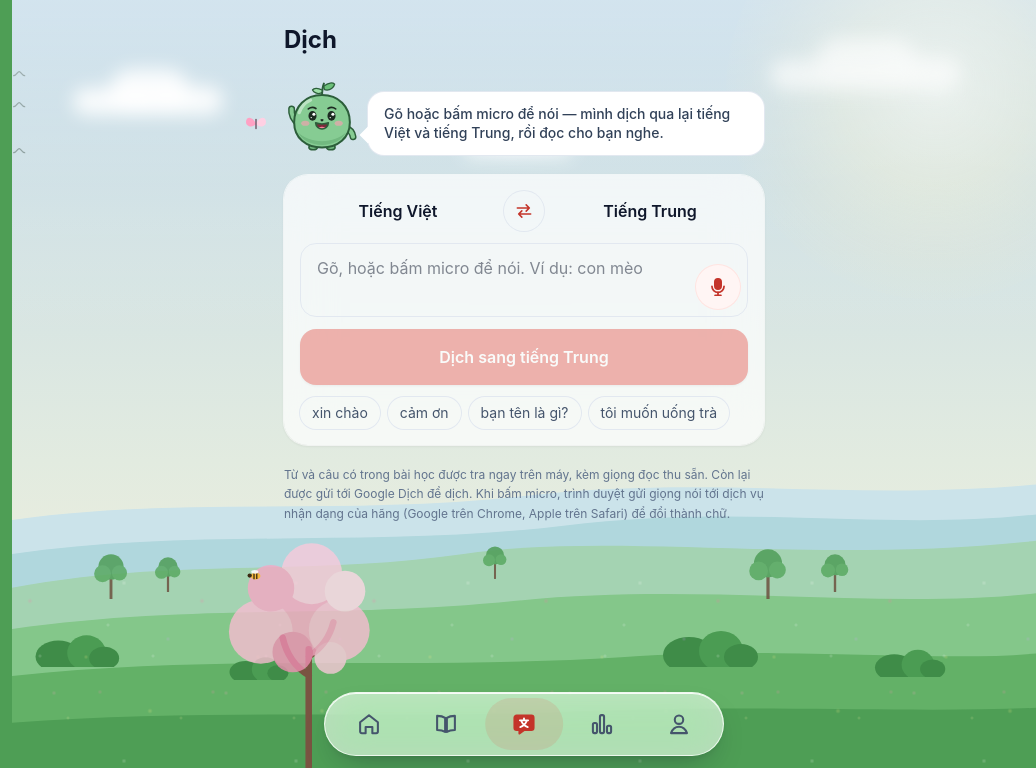
Test: Màn Dịch — Việt → Trung › từ có trong bài học thì ra ngay, không gọi mạng, và tự đọc bằng file thu sẵn
The width and height of the screenshot is (1036, 768).
Type "Xin chào" into the text box named "Tiếng Việt".
click(524, 280); type("Xin chào")  # box top-left (300, 242), bottom-right (748, 316)
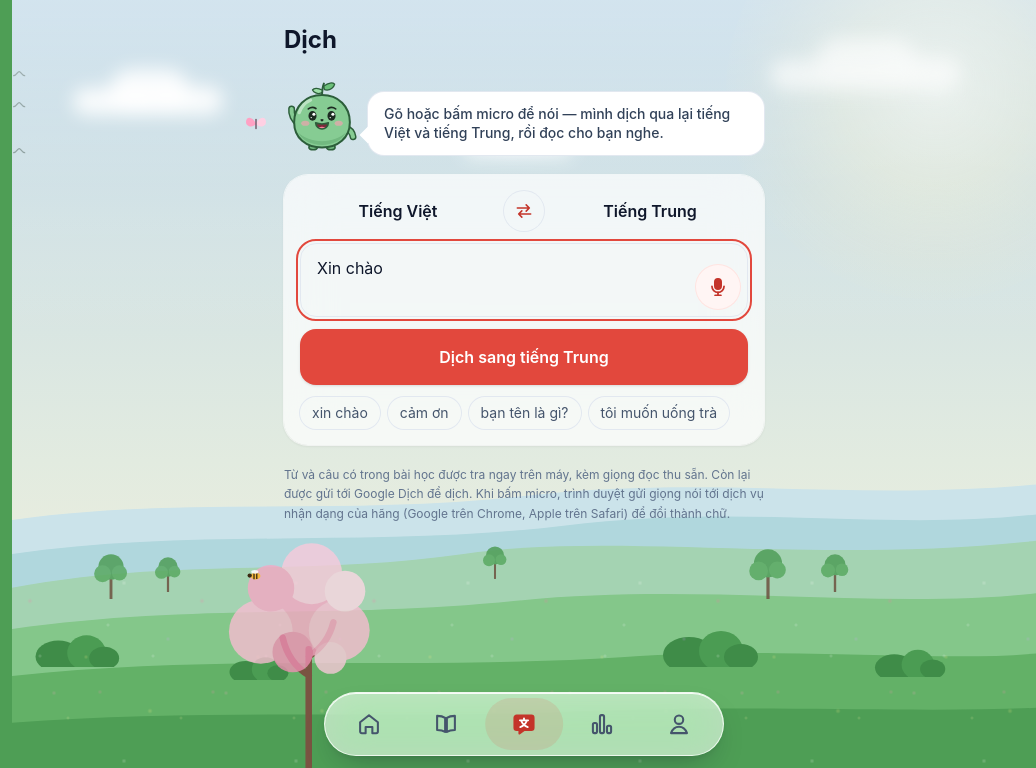
Click the button "Dịch sang tiếng Trung".
click(524, 356)  # box top-left (300, 328), bottom-right (748, 384)
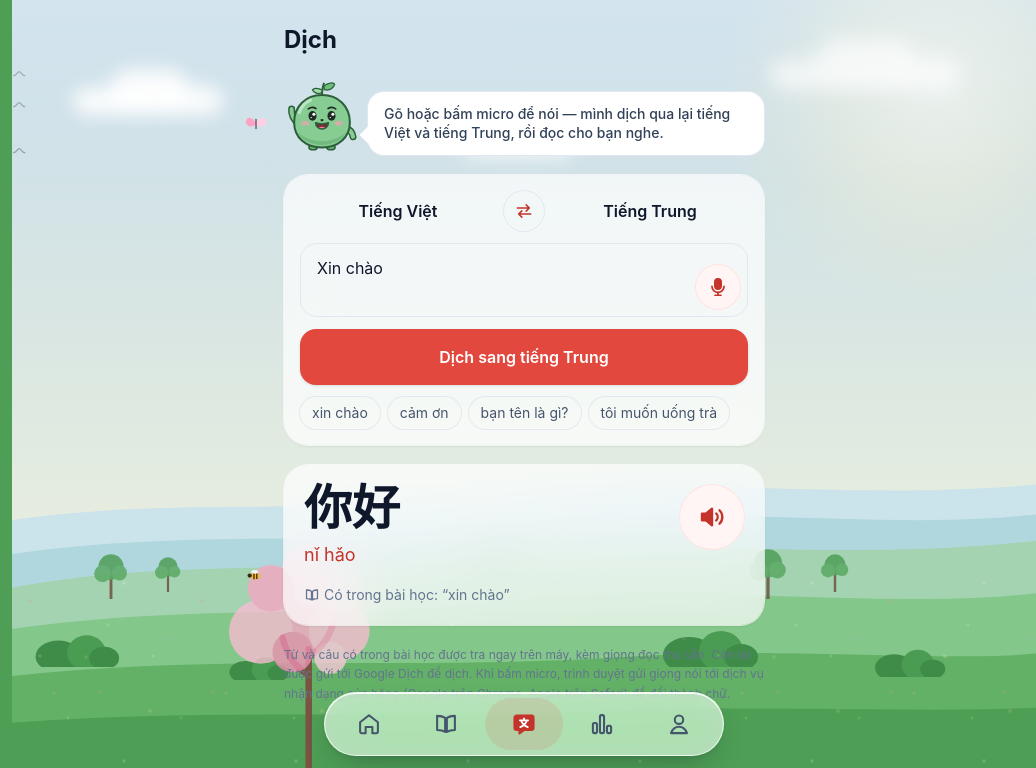
Expected: the element named "Bản dịch" shows "你好", top-left (304, 482), bottom-right (400, 534)
Expected: the element named "Bản dịch" shows "nǐ hǎo", top-left (304, 544), bottom-right (356, 564)
Expected: the element named "Bản dịch" shows "Có trong bài học", top-left (324, 586), bottom-right (434, 602)
